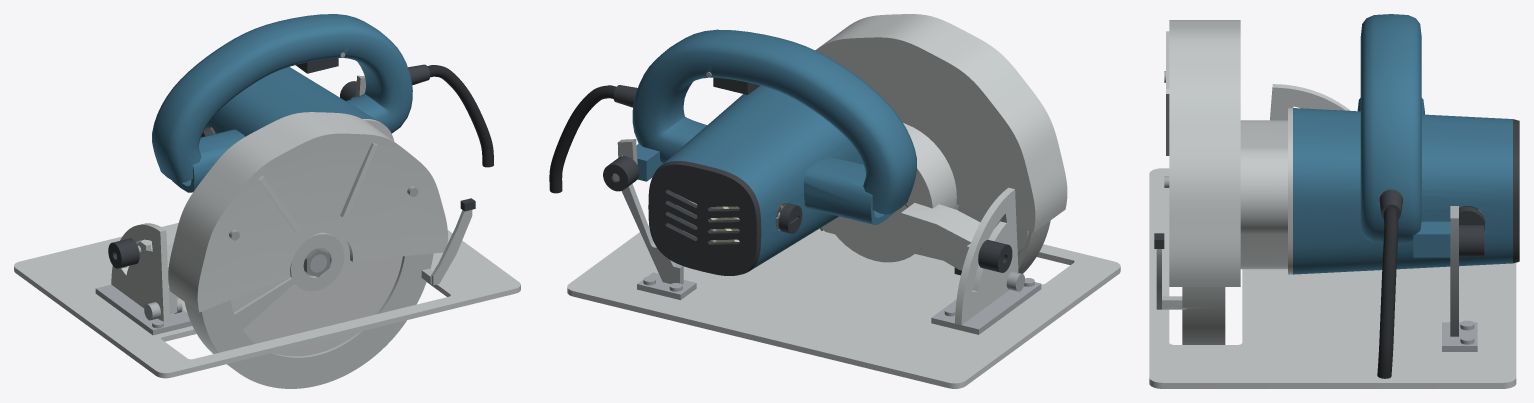
3 renders of one model, left to right at view 1: azimuth 30°, elevation 25°; view 2: azimuth 150°, elevation 25°; view 3: azimuth 270°, elevation 25°, orthographic. The views are drawn at different scales.
Visible parts, largest first — view 1: Fixed upper blade guard and case cover, Motor housing and hollow main handle, Sole plate with blade opening, Retractable lower guard and lifting lever, Installed toothed blade plate, Front curved bevel quadrant, Front bevel foot, Short attached power cord jacket, Front bevel clamping knob, Die cast drive case and mounting arms; view 2: Sole plate with blade opening, Motor housing and hollow main handle, Fixed upper blade guard and case cover, Rear cap with twin ventilation banks, Die cast drive case and mounting arms, Front curved bevel quadrant, Rear slotted depth slide, Front bevel foot, Short attached power cord jacket, Rear depth clamping knob, Front bevel clamping knob, Retractable lower guard and lifting lever (+4 smaller); view 3: Motor housing and hollow main handle, Sole plate with blade opening, Fixed upper blade guard and case cover, Die cast drive case and mounting arms, Retractable lower guard and lifting lever, Short attached power cord jacket, Front curved bevel quadrant, Rear slotted depth slide, Rear cap with twin ventilation banks, Rear depth clamping knob, Rear depth foot, Cord entry strain relief (+1 smaller).
Boxes of the visible parts, left/top/right/bottom form: Fixed upper blade guard and case cover: left=168, top=112, right=447, bottom=312; Motor housing and hollow main handle: left=152, top=14, right=412, bottom=192; Sole plate with blade opening: left=14, top=223, right=520, bottom=378; Retractable lower guard and lifting lever: left=184, top=210, right=472, bottom=388; Installed toothed blade plate: left=230, top=231, right=402, bottom=356; Front curved bevel quadrant: left=111, top=223, right=169, bottom=322; Front bevel foot: left=95, top=284, right=192, bottom=335; Short attached power cord jacket: left=427, top=65, right=493, bottom=167; Front bevel clamping knob: left=108, top=238, right=139, bottom=268; Die cast drive case and mounting arms: left=137, top=119, right=394, bottom=313; Sole plate with blade opening: left=567, top=225, right=1120, bottom=388; Motor housing and hollow main handle: left=623, top=29, right=916, bottom=269; Fixed upper blade guard and case cover: left=815, top=14, right=1067, bottom=232; Rear cap with twin ventilation banks: left=648, top=161, right=761, bottom=275; Die cast drive case and mounting arms: left=827, top=123, right=980, bottom=270; Front curved bevel quadrant: left=955, top=187, right=1018, bottom=324; Rear slotted depth slide: left=617, top=139, right=683, bottom=284; Front bevel foot: left=931, top=282, right=1041, bottom=334; Short attached power cord jacket: left=549, top=85, right=616, bottom=193; Rear depth clamping knob: left=603, top=156, right=639, bottom=191; Front bevel clamping knob: left=978, top=240, right=1012, bottom=272; Retractable lower guard and lifting lever: left=817, top=220, right=1050, bottom=273; Motor housing and hollow main handle: left=1293, top=14, right=1512, bottom=274; Sole plate with blade opening: left=1149, top=168, right=1516, bottom=388; Fixed upper blade guard and case cover: left=1166, top=20, right=1240, bottom=286; Die cast drive case and mounting arms: left=1240, top=108, right=1292, bottom=274; Retractable lower guard and lifting lever: left=1156, top=249, right=1225, bottom=344; Short attached power cord jacket: left=1377, top=207, right=1398, bottom=378; Front curved bevel quadrant: left=1270, top=84, right=1350, bottom=120; Rear slotted depth slide: left=1450, top=206, right=1458, bottom=336; Rear cap with twin ventilation banks: left=1513, top=119, right=1519, bottom=263; Rear depth clamping knob: left=1459, top=225, right=1484, bottom=256; Rear depth foot: left=1442, top=322, right=1477, bottom=351; Cord entry strain relief: left=1379, top=189, right=1402, bottom=219.
Size of the model in its own units: 0.2302 by 0.1451 by 0.1424.
